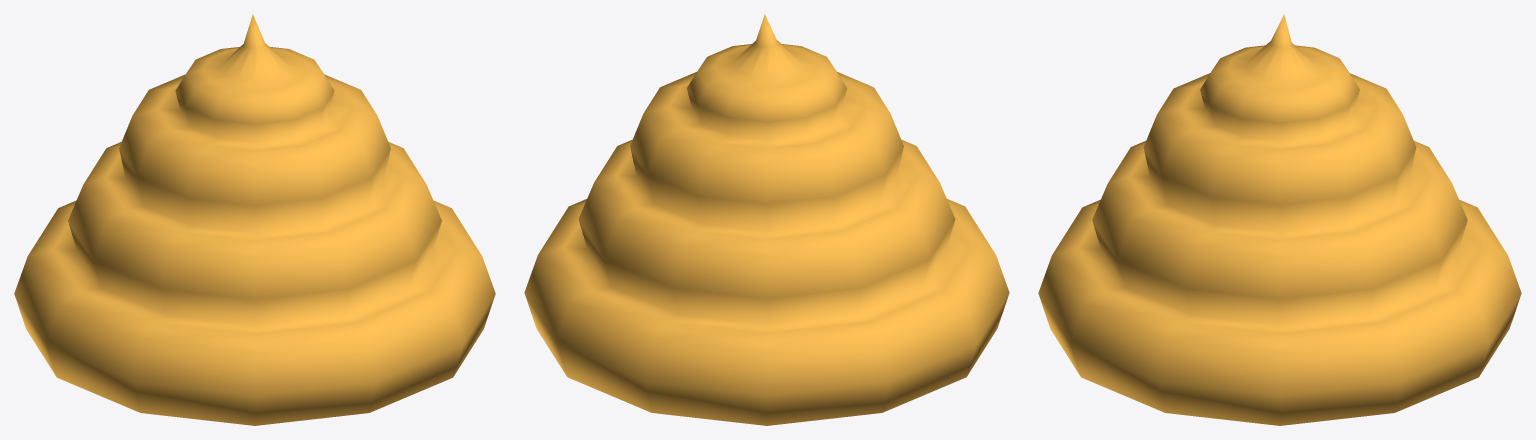
File: Poop_Golden.fbx
3 renders of one model, left to right at view 1: azimuth 30°, elevation 25°; view 2: azimuth 150°, elevation 25°; view 3: azimuth 270°, elevation 25°, orthographic.
Parts seen in each view (by area): view 1: Shit01; view 2: Shit01; view 3: Shit01.
Boxes of the visible parts, x1,y1,x2,y2 form: Shit01: (14, 14, 495, 425); Shit01: (524, 14, 1009, 425); Shit01: (1038, 14, 1521, 425).
Size of the model in its own units: 203 by 146 by 203.
